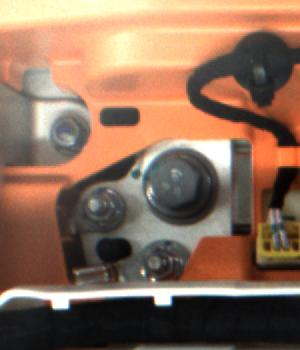nut_b: (134, 141, 223, 230)
